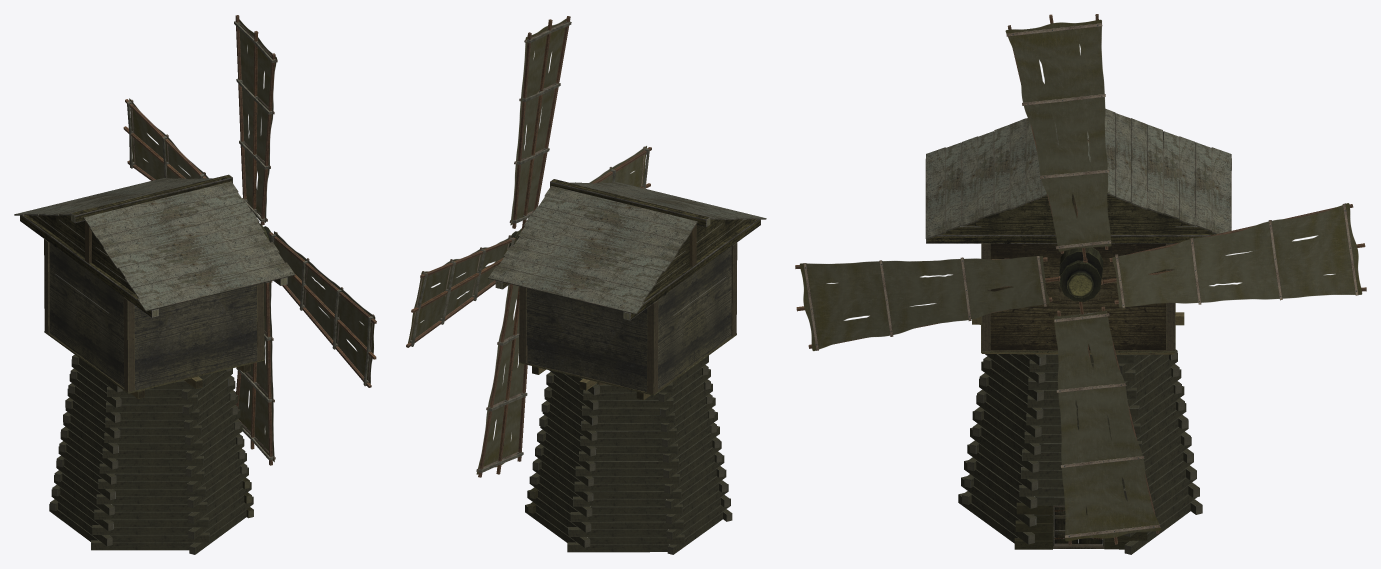
The model's file is mill.glb.
3 renders of one model, left to right at view 1: azimuth 30°, elevation 25°; view 2: azimuth 150°, elevation 25°; view 3: azimuth 270°, elevation 25°, orthographic. The views are drawn at different scales.
Visible parts, largest first — view 1: tower_wall_face_floor, mill_wallsLP, mill_shaft_blade_lp, frame_beams_lp; view 2: tower_wall_face_floor, mill_wallsLP, mill_shaft_blade_lp, frame_beams_lp; view 3: mill_shaft_blade_lp, tower_wall_face_floor, mill_wallsLP, frame_beams_lp, door_box_lp1.
Boxes of the visible parts, <box> form: tower_wall_face_floor: <box>14,178,295,393</box>; mill_wallsLP: <box>49,354,253,554</box>; mill_shaft_blade_lp: <box>123,15,376,465</box>; frame_beams_lp: <box>20,174,287,398</box>; tower_wall_face_floor: <box>488,182,766,395</box>; mill_wallsLP: <box>525,355,732,554</box>; mill_shaft_blade_lp: <box>406,16,651,477</box>; frame_beams_lp: <box>495,179,760,400</box>; mill_shaft_blade_lp: <box>795,14,1366,545</box>; tower_wall_face_floor: <box>925,108,1231,352</box>; mill_wallsLP: <box>958,349,1202,554</box>; frame_beams_lp: <box>925,158,1231,354</box>; door_box_lp1: <box>1053,505,1104,548</box>.
Bounding box in the file's own units: 58.06 × 129 × 123.
5 materials, 5 textured.
